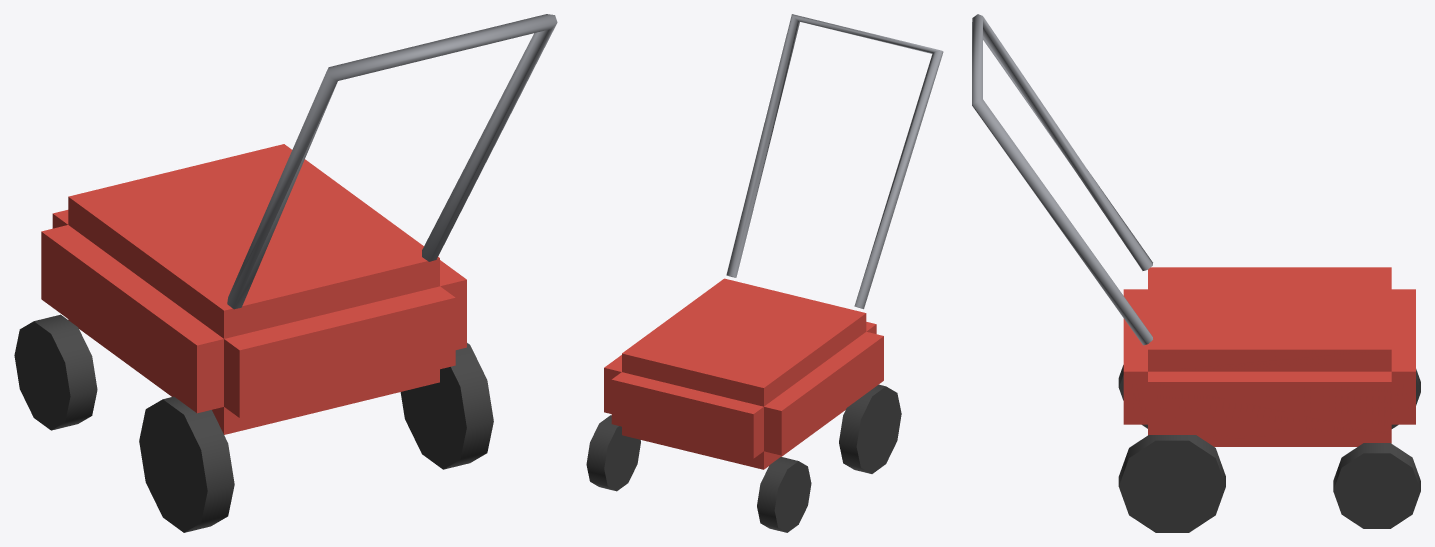
File: lawn_mower.glb
The picture shows the model from 3 angles, left to right: view 1: azimuth 30°, elevation 25°; view 2: azimuth 150°, elevation 25°; view 3: azimuth 270°, elevation 25°; orthographic projection. The views are drawn at different scales.
Parts seen in each view (by area): view 1: lawn_mower; view 2: lawn_mower; view 3: lawn_mower.
Part boxes in pixels (box(x1,y1,x2,y2)): lawn_mower: box(14, 14, 557, 532); lawn_mower: box(586, 14, 943, 532); lawn_mower: box(972, 14, 1420, 532).
Size of the model in its own units: 0.53 by 0.9529 by 0.9211.
